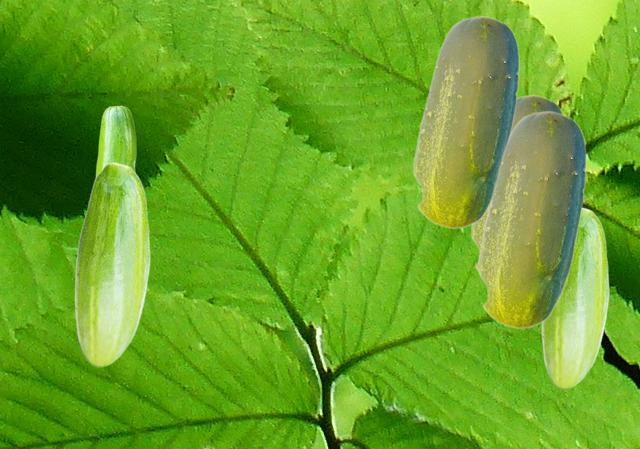cucumber: (477, 110, 585, 328), (412, 15, 518, 228), (470, 94, 563, 271), (74, 162, 149, 366), (541, 207, 608, 388), (95, 105, 137, 176)
